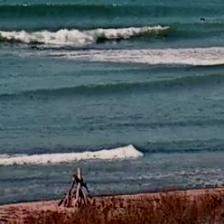surfer: (199, 17, 206, 22)
